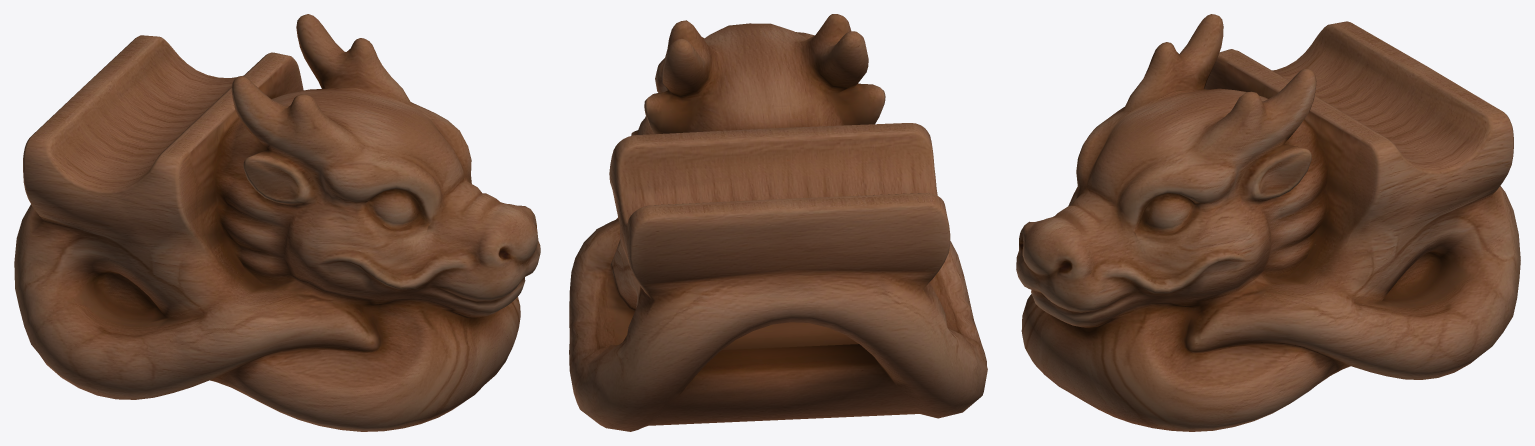
File: dragon-rest.glb
3 views of the same model, side by side, from view 1: azimuth 30°, elevation 25°; view 2: azimuth 150°, elevation 25°; view 3: azimuth 270°, elevation 25° (orthographic). The views are drawn at different scales.
Visible parts, largest first — view 1: tripo_node_8f8c0287-f1c4-4dbe-8d8f-2652ae810304; view 2: tripo_node_8f8c0287-f1c4-4dbe-8d8f-2652ae810304; view 3: tripo_node_8f8c0287-f1c4-4dbe-8d8f-2652ae810304.
Boxes of the visible parts, left/top/right/bottom form: tripo_node_8f8c0287-f1c4-4dbe-8d8f-2652ae810304: left=14, top=14, right=540, bottom=431; tripo_node_8f8c0287-f1c4-4dbe-8d8f-2652ae810304: left=569, top=14, right=987, bottom=431; tripo_node_8f8c0287-f1c4-4dbe-8d8f-2652ae810304: left=1016, top=14, right=1520, bottom=431.
Size of the model in its own units: 0.923 by 0.6567 by 0.9843.
1 material, 1 textured.
